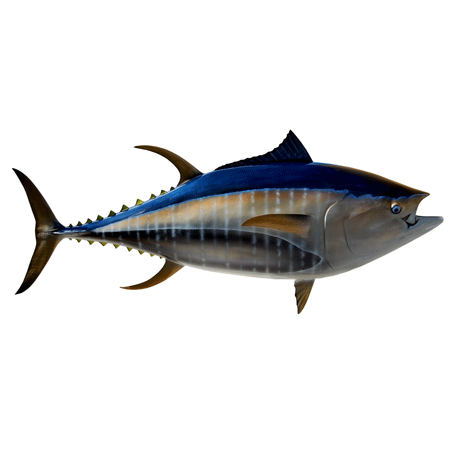Bluefina Tuna: (13, 132, 444, 319)
